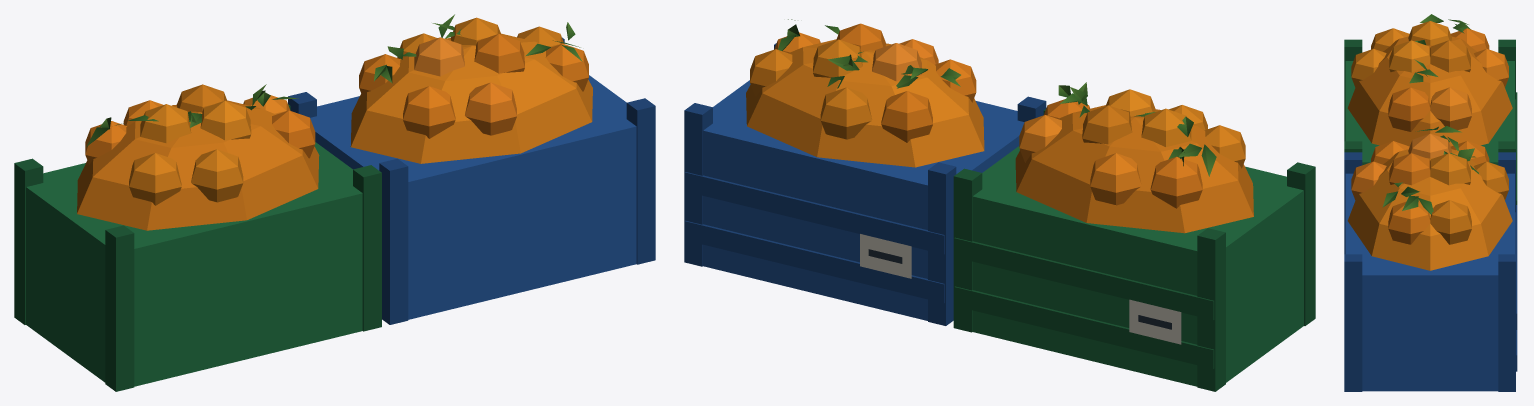
The model's file is crates_oranges.glb.
The picture shows the model from 3 angles, left to right: view 1: azimuth 30°, elevation 25°; view 2: azimuth 150°, elevation 25°; view 3: azimuth 270°, elevation 25°; orthographic projection. The views are drawn at different scales.
Parts seen in each view (by area): view 1: crates_oranges; view 2: crates_oranges; view 3: crates_oranges.
Part boxes in pixels (box(x1,y1,x2,y2)): crates_oranges: box(14, 14, 655, 391); crates_oranges: box(684, 19, 1315, 391); crates_oranges: box(1344, 14, 1517, 391).
Bounding box in the file's own units: 2.05 × 0.82 × 0.684.
